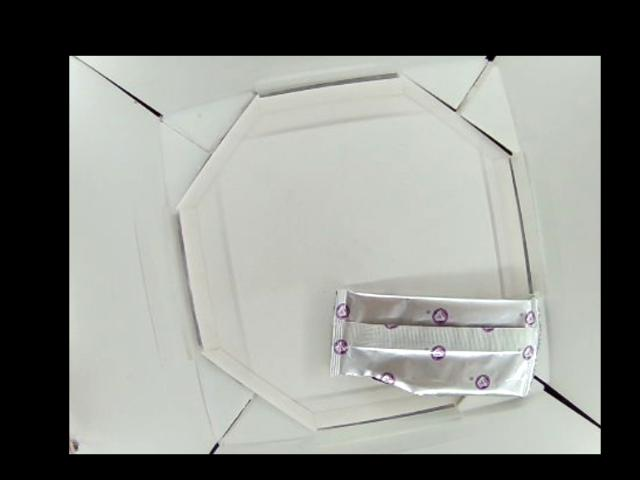Medicine: (326, 287, 540, 398)
